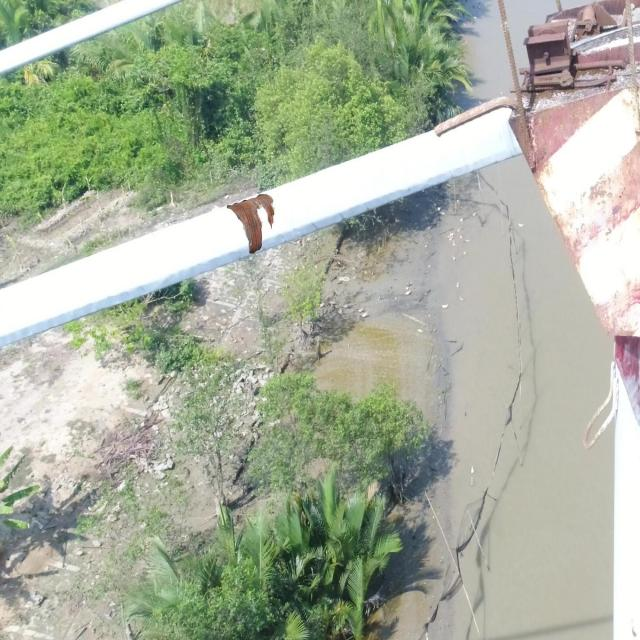corrosion: (226, 193, 276, 254)
